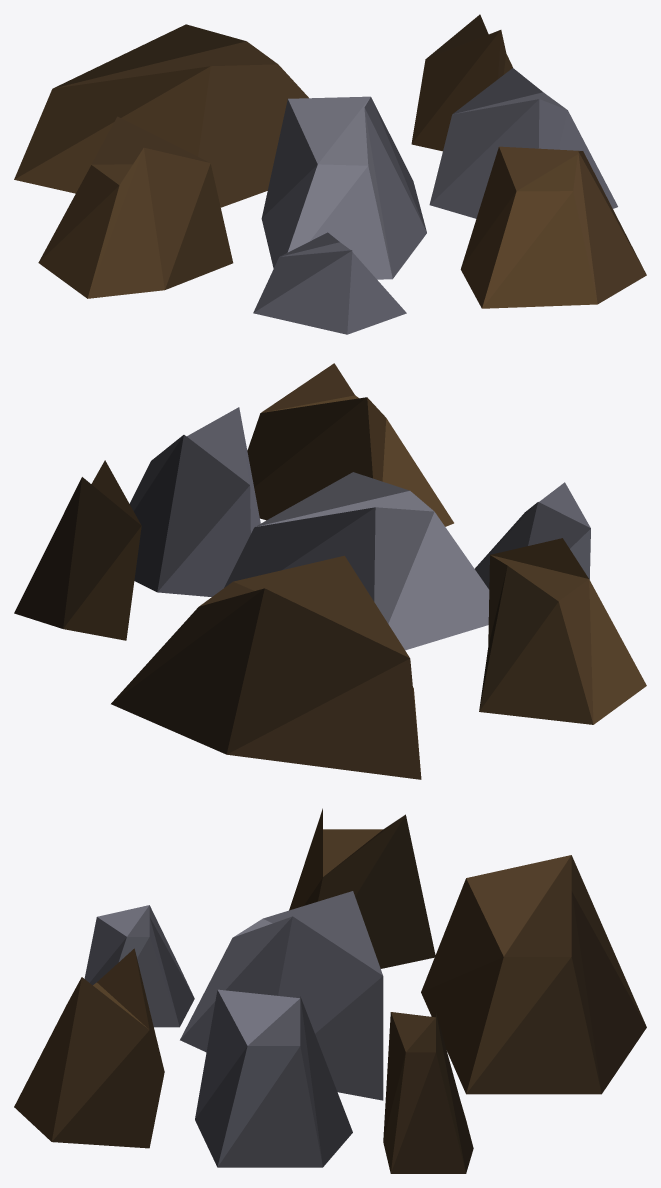
The model's file is steel-ore.obj.
3 renders of one model, top to bottom at view 1: azimuth 30°, elevation 25°; view 2: azimuth 150°, elevation 25°; view 3: azimuth 270°, elevation 25°, orthographic. The views are drawn at different scales.
Visible parts, largest first — view 1: Item Silver ore 2026-09-12_21-09-04; view 2: Item Silver ore 2026-09-12_21-09-04; view 3: Item Silver ore 2026-09-12_21-09-04.
Part boxes in pixels (x1,y1,x2,y2): Item Silver ore 2026-09-12_21-09-04: [14, 14, 646, 334]; Item Silver ore 2026-09-12_21-09-04: [14, 363, 646, 779]; Item Silver ore 2026-09-12_21-09-04: [14, 808, 646, 1173].
Bounding box in the file's own units: 83 × 20 × 84.
